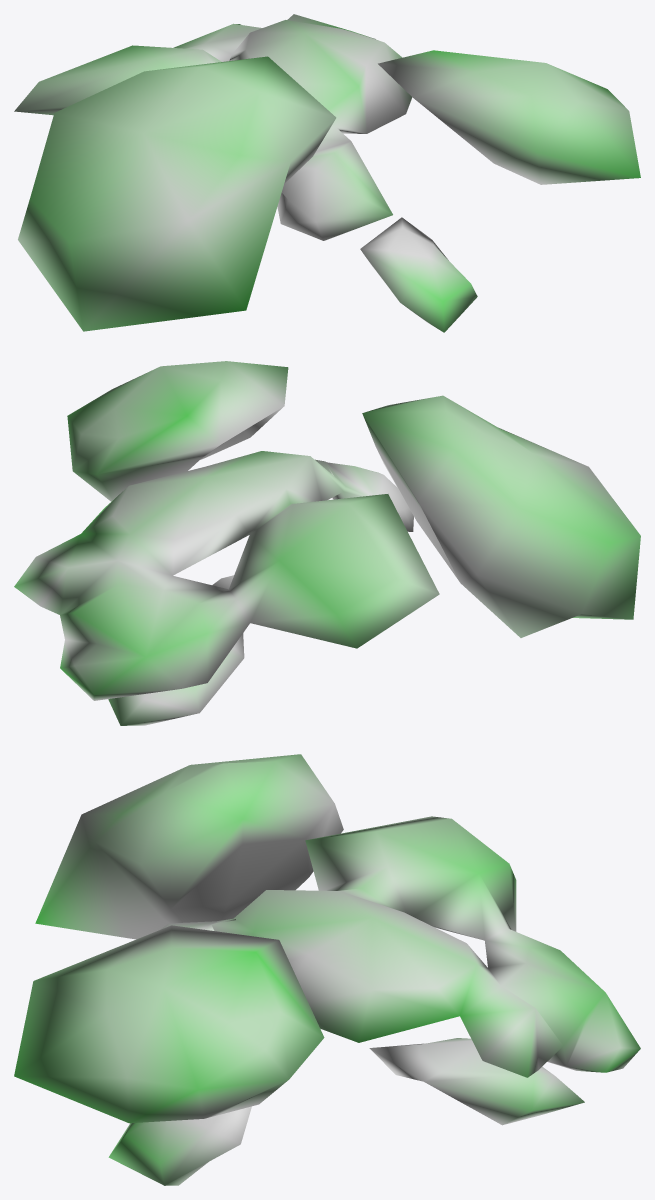
File: treetop.fbx
3 views of the same model, one above another, from view 1: azimuth 30°, elevation 25°; view 2: azimuth 150°, elevation 25°; view 3: azimuth 270°, elevation 25° (orthographic). The views are drawn at different scales.
Visible parts, largest first — view 1: TreeTop; view 2: TreeTop; view 3: TreeTop.
Boxes of the visible parts, left/top/right/bottom form: TreeTop: left=14, top=14, right=640, bottom=332; TreeTop: left=14, top=361, right=640, bottom=725; TreeTop: left=14, top=754, right=640, bottom=1185.
Bounding box in the file's own units: 2816 × 1328 × 2518.
